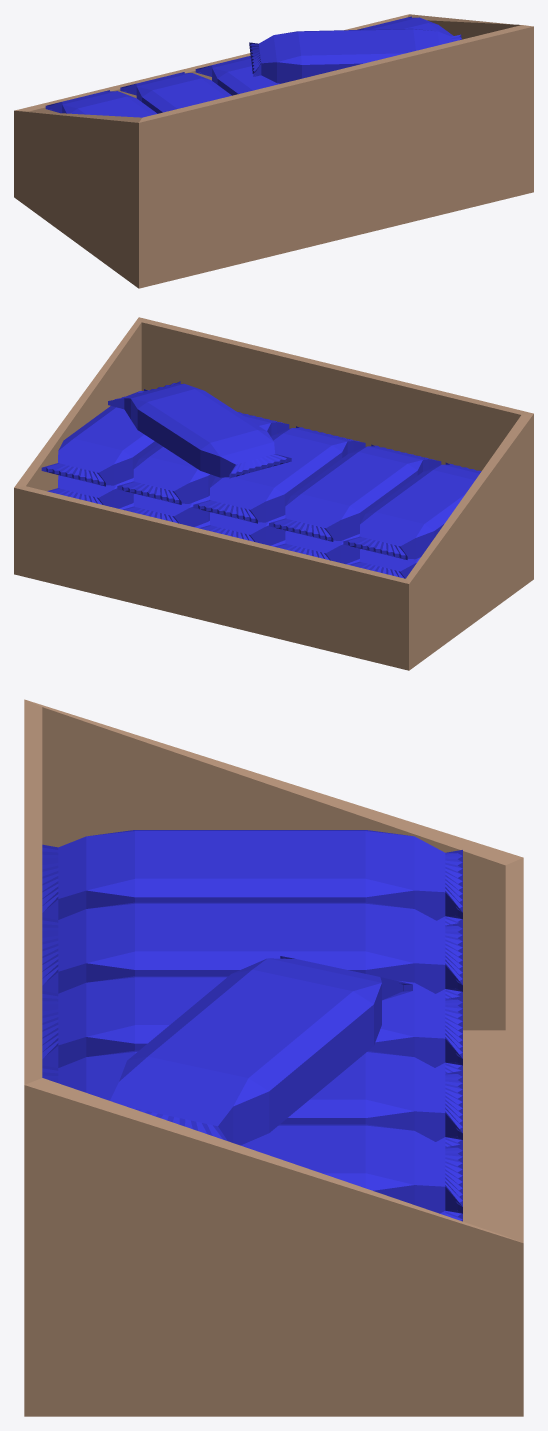
File: BoxBueBars.fbx
The picture shows the model from 3 angles, top to bottom: view 1: azimuth 30°, elevation 25°; view 2: azimuth 150°, elevation 25°; view 3: azimuth 270°, elevation 25°; orthographic projection. The views are drawn at different scales.
Parts seen in each view (by area): view 1: Cube.043, Cube.023, Cube.026, Cube.028, Cube.027, Cube.024; view 2: Cube.043, Cube.023, Cube.026, Cube.027, Cube.028, Cube.024, Cube.025, Cube.035, Cube.034, Cube.037, Cube.036, Cube.038; view 3: Cube.043, Cube.023, Cube.028, Cube.026, Cube.027, Cube.025, Cube.024.
Part boxes in pixels (x1,y1,x2,y2): Cube.043: (14,14,533,288); Cube.023: (249,28,461,83); Cube.026: (120,72,231,113); Cube.028: (45,90,157,117); Cube.027: (195,56,280,95); Cube.024: (357,16,453,36); Cube.043: (14,317,533,670); Cube.023: (108,381,291,478); Cube.026: (269,444,441,541); Cube.027: (193,426,365,523); Cube.028: (343,462,481,559); Cube.024: (41,389,158,486); Cube.025: (117,412,289,504); Cube.035: (123,493,210,526); Cube.034: (47,475,133,508); Cube.037: (199,512,285,545); Cube.036: (274,530,359,564); Cube.038: (349,549,420,578); Cube.043: (24,699,523,1416); Cube.023: (110,956,412,1145); Cube.028: (42,830,462,920); Cube.026: (42,902,462,993); Cube.027: (42,976,462,1067); Cube.025: (42,1050,462,1141); Cube.024: (241,1124,462,1213).
Bounding box in the file's own units: 939 × 377 × 514.
